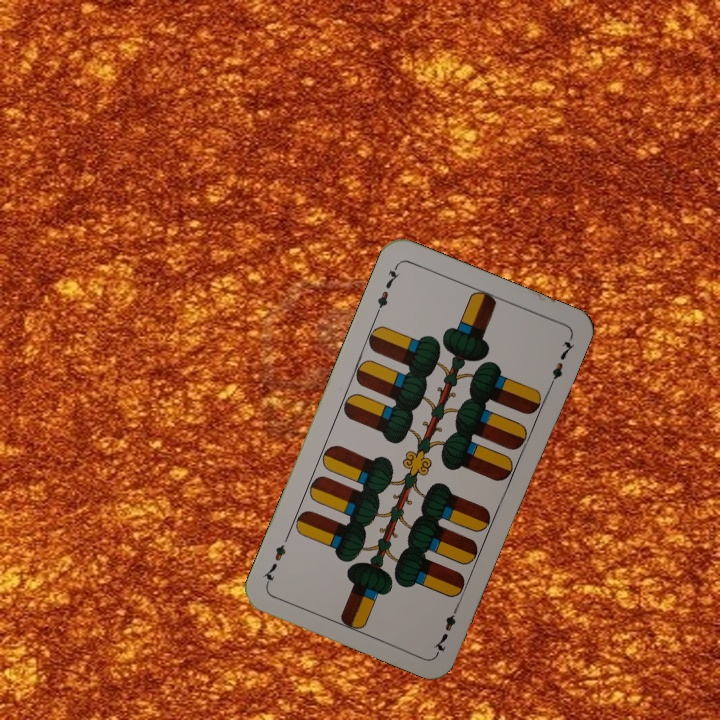E7: (430, 600, 463, 656), (371, 261, 402, 318)
